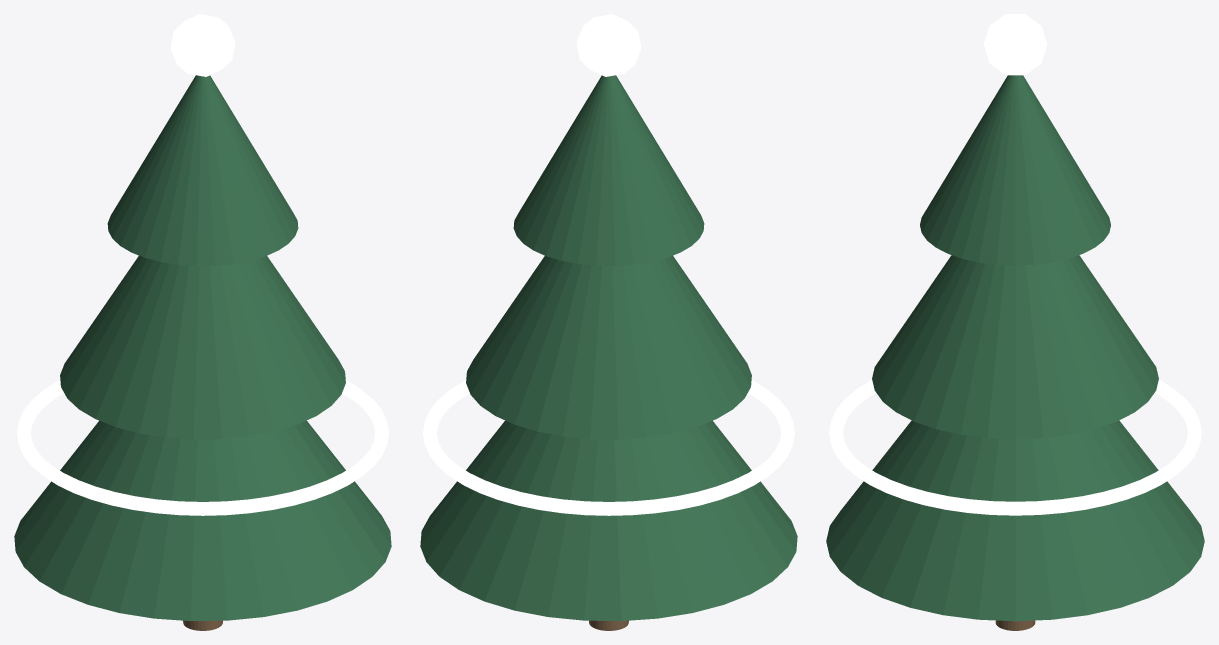
The model's file is Tree.fbx.
The picture shows the model from 3 angles, left to right: view 1: azimuth 30°, elevation 25°; view 2: azimuth 150°, elevation 25°; view 3: azimuth 270°, elevation 25°; orthographic projection.
Visible parts, largest first — view 1: TreeCone1, TreeCone2, TreeCone3, TreeRing, TreeStar; view 2: TreeCone1, TreeCone2, TreeCone3, TreeRing, TreeStar; view 3: TreeCone1, TreeCone2, TreeCone3, TreeRing, TreeStar.
Boxes of the visible parts, left/top/right/bottom form: TreeCone1: left=14, top=420, right=391, bottom=620; TreeCone2: left=60, top=255, right=345, bottom=439; TreeCone3: left=107, top=75, right=298, bottom=265; TreeRing: left=17, top=380, right=388, bottom=515; TreeStar: left=170, top=14, right=235, bottom=76; TreeCone1: left=420, top=420, right=797, bottom=620; TreeCone2: left=466, top=255, right=751, bottom=439; TreeCone3: left=513, top=75, right=704, bottom=265; TreeRing: left=423, top=380, right=794, bottom=515; TreeStar: left=576, top=14, right=641, bottom=76; TreeCone1: left=826, top=420, right=1204, bottom=621; TreeCone2: left=872, top=255, right=1158, bottom=439; TreeCone3: left=920, top=75, right=1110, bottom=265; TreeRing: left=829, top=380, right=1201, bottom=515; TreeStar: left=983, top=14, right=1047, bottom=75.
Bounding box in the file's own units: 190 × 336 × 190.
